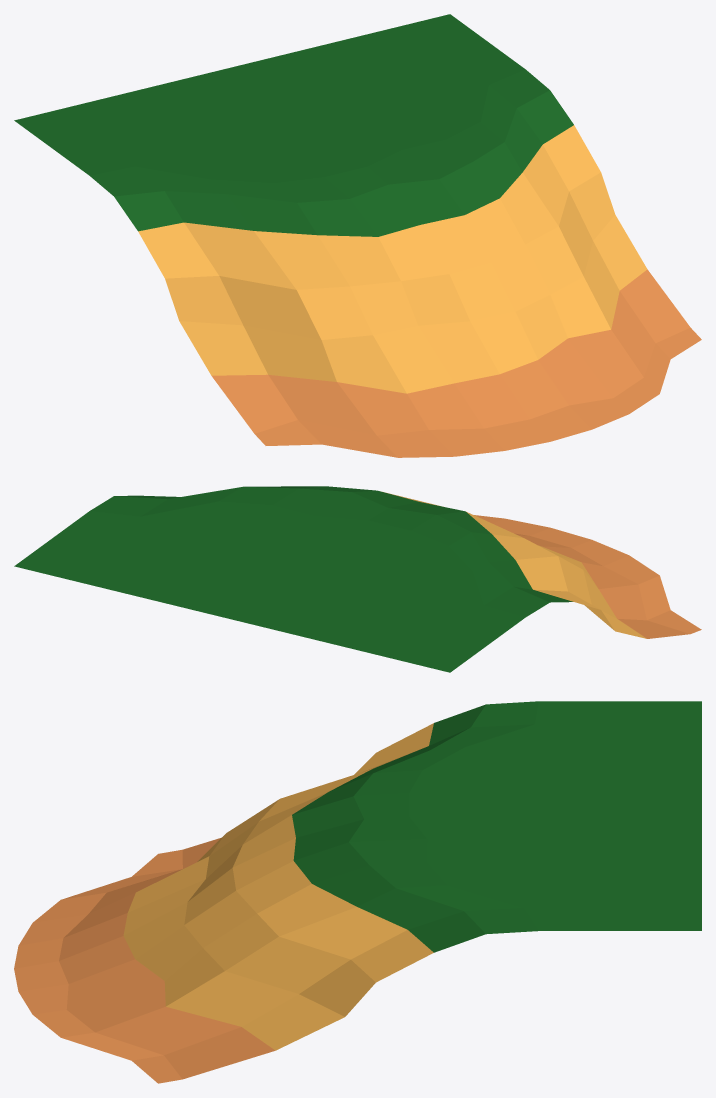
Rendered from Playa_Convexo.fbx.
The picture shows the model from 3 angles, top to bottom: view 1: azimuth 30°, elevation 25°; view 2: azimuth 150°, elevation 25°; view 3: azimuth 270°, elevation 25°; orthographic projection. The views are drawn at different scales.
Parts seen in each view (by area): view 1: Playa_Convexo; view 2: Playa_Convexo; view 3: Playa_Convexo.
Part boxes in pixels (box(x1,y1,x2,y2)): Playa_Convexo: box(14, 14, 701, 457); Playa_Convexo: box(14, 486, 701, 672); Playa_Convexo: box(14, 701, 701, 1083).
Bounding box in the file's own units: 2000 × 619 × 2530.
